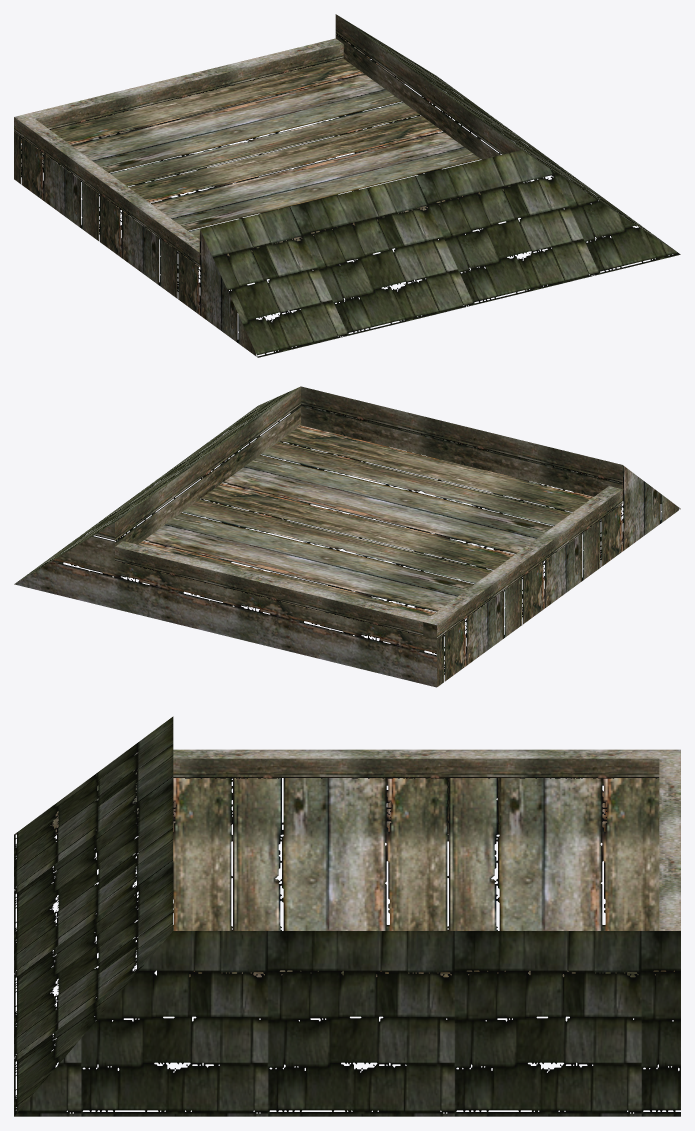
File: HouseWall05.obj
3 renders of one model, top to bottom at view 1: azimuth 30°, elevation 25°; view 2: azimuth 150°, elevation 25°; view 3: azimuth 270°, elevation 25°, orthographic. The views are drawn at different scales.
Visible parts, largest first — view 1: Mesh_0, Mesh_1; view 2: Mesh_0, Mesh_1; view 3: Mesh_1, Mesh_0.
Boxes of the visible parts, x1=… form: Mesh_0: x1=14, y1=14, x2=520, y2=357; Mesh_1: x1=200, y1=15, x2=680, y2=357; Mesh_0: x1=14, y1=386, x2=680, y2=687; Mesh_1: x1=16, y1=387, x2=679, y2=582; Mesh_1: x1=14, y1=716, x2=680, y2=1116; Mesh_0: x1=15, y1=749, x2=680, y2=977.
Bounding box in the file's own units: 4.6 × 0.9004 × 4.6.
2 materials, 2 textured.
